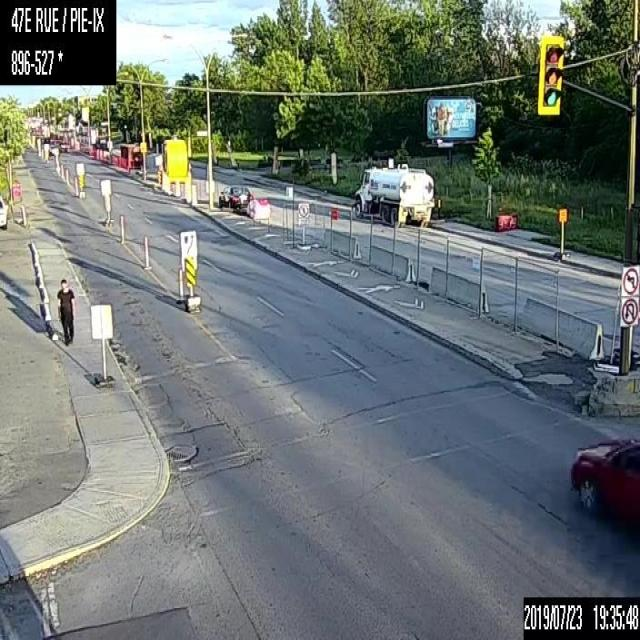construction: (177, 264, 184, 299), (118, 212, 125, 243), (143, 233, 149, 267), (73, 173, 78, 195), (175, 181, 180, 195), (60, 164, 63, 178), (65, 168, 68, 182)
pedestrian: (56, 276, 74, 344)
vehicle: (569, 435, 639, 537), (351, 156, 435, 228), (216, 182, 254, 210), (0, 194, 7, 229)
